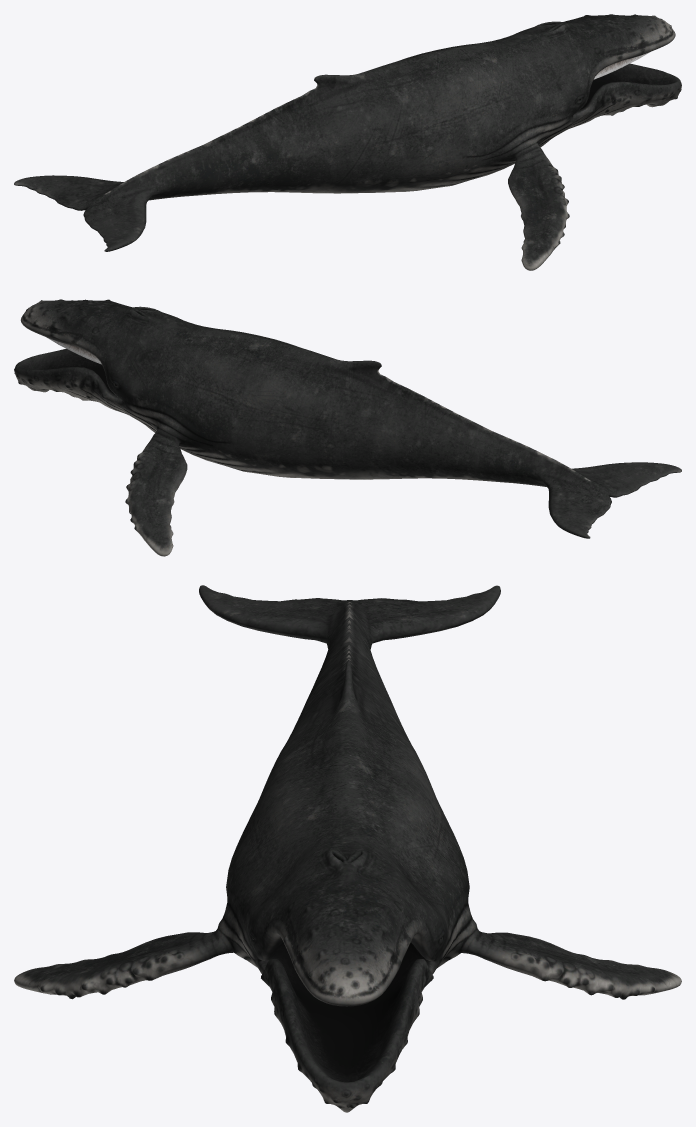
Rendered from HumpBack.glb.
The picture shows the model from 3 angles, top to bottom: view 1: azimuth 30°, elevation 25°; view 2: azimuth 150°, elevation 25°; view 3: azimuth 270°, elevation 25°; orthographic projection. The views are drawn at different scales.
Parts seen in each view (by area): view 1: Body; view 2: Body; view 3: Body.
Part boxes in pixels (bbox=[...]): Body: bbox=[14, 14, 681, 270]; Body: bbox=[14, 299, 681, 556]; Body: bbox=[14, 585, 681, 1112].
Size of the model in its own units: 19.16 by 4.32 by 11.14.
Materials: 2 (2 with a texture image).
